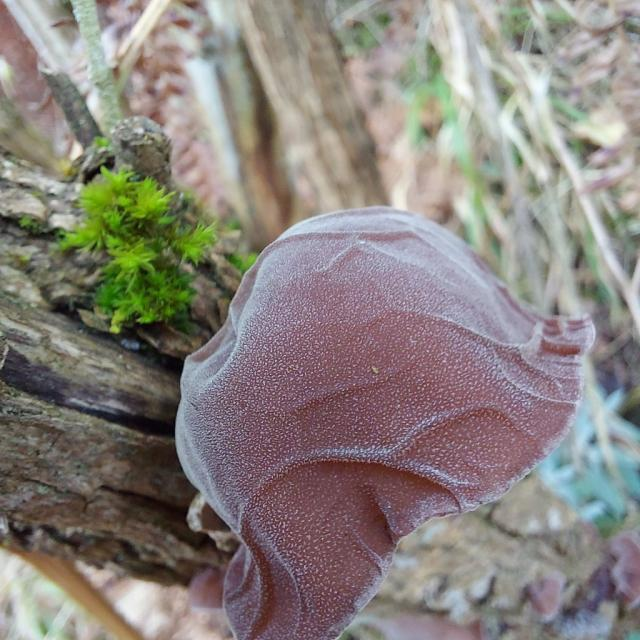Matang: (166, 188, 604, 640)
